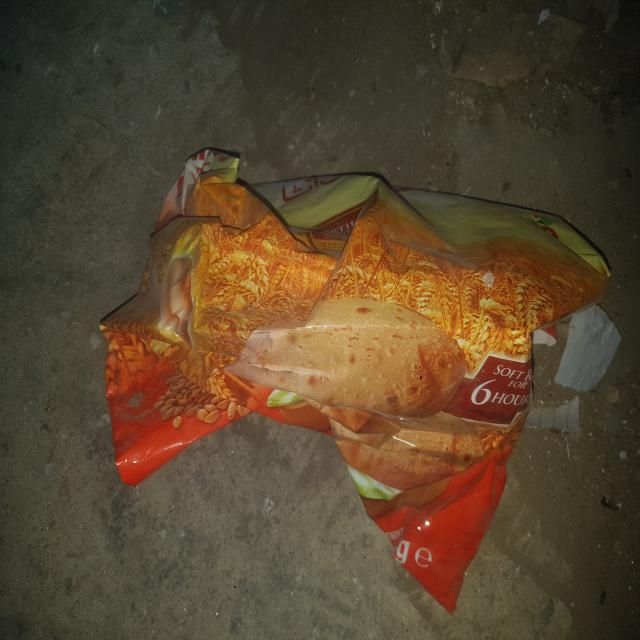electronic: (100, 147, 614, 614)
